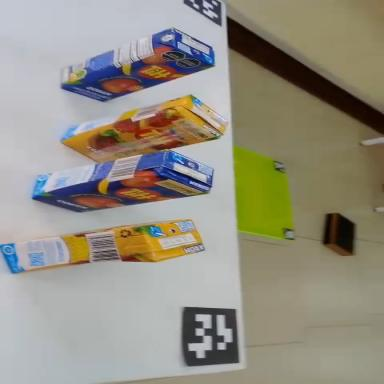HIT-MANGO: (54, 18, 218, 114), (28, 144, 216, 219)
HIT-MORA: (57, 89, 230, 169), (0, 218, 205, 276)
cara_F: (30, 167, 209, 220)
